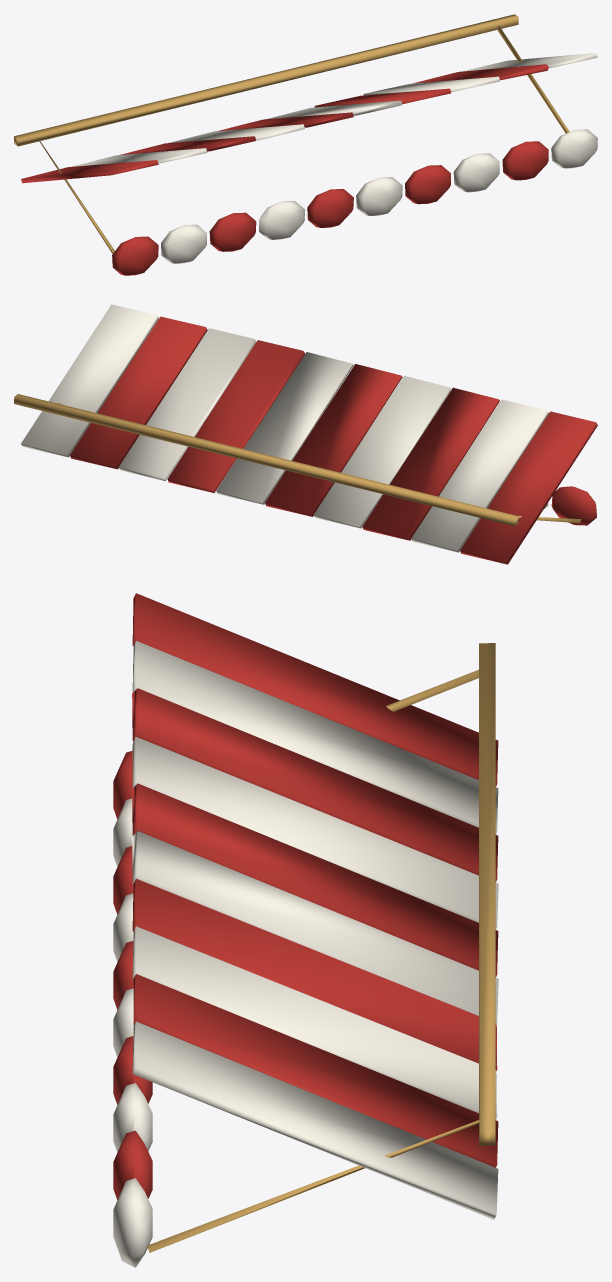
File: shop_awning.glb
3 views of the same model, one above another, from view 1: azimuth 30°, elevation 25°; view 2: azimuth 150°, elevation 25°; view 3: azimuth 270°, elevation 25° (orthographic). The views are drawn at different scales.
Parts seen in each view (by area): view 1: shop_awning; view 2: shop_awning; view 3: shop_awning.
Part boxes in pixels (x1,y1,x2,y2): shop_awning: (14,14,597,275); shop_awning: (14,304,597,564); shop_awning: (113,593,498,1267).
Bounding box in the file's own units: 3.49 × 0.7273 × 1.16.
